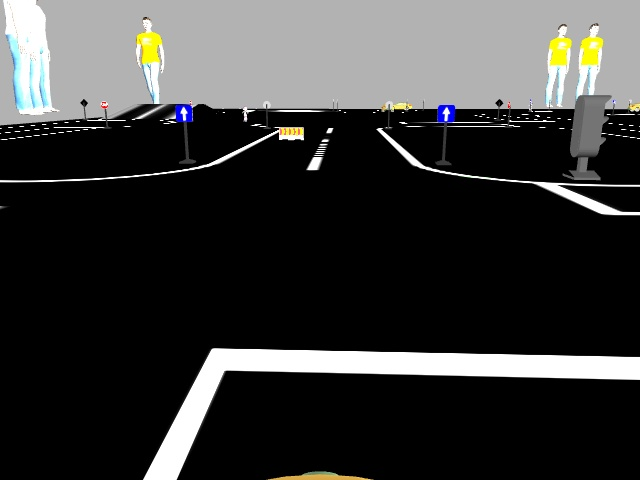ClosedRoadStand: (279, 128, 303, 140)
OneWay: (175, 105, 193, 122), (439, 104, 454, 122)
